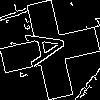A: (25, 25, 77, 68)
